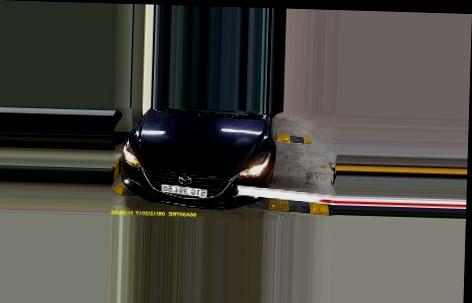License_Plate: (161, 182, 209, 200)
